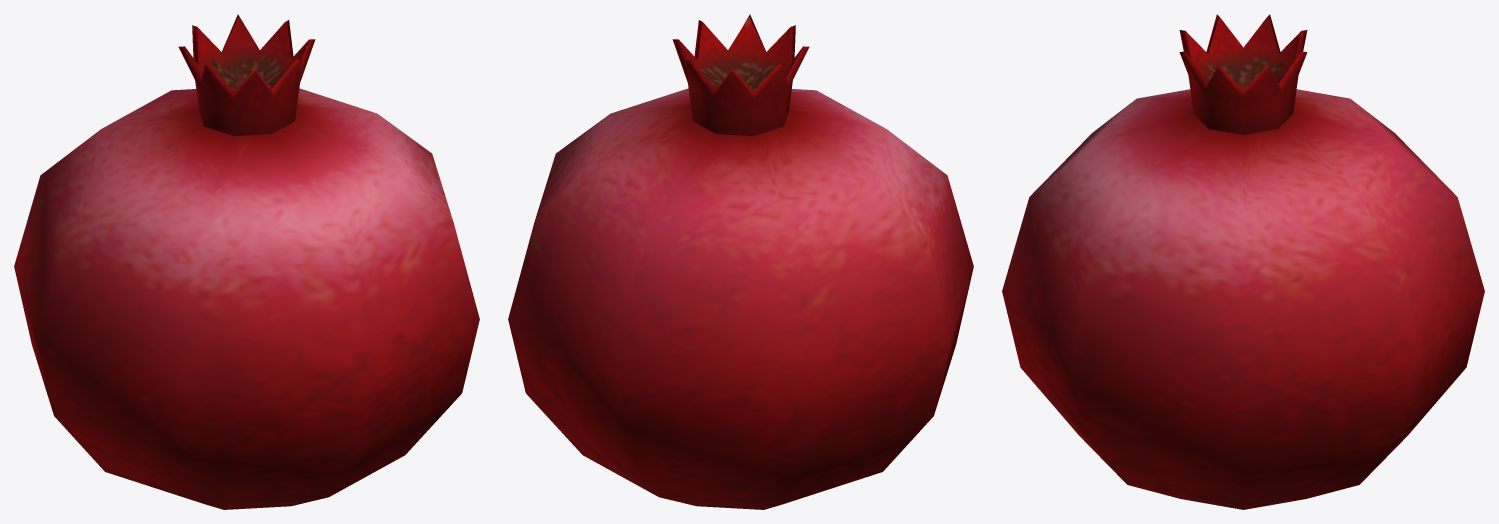
The model's file is Pomegranate.fbx.
3 views of the same model, side by side, from view 1: azimuth 30°, elevation 25°; view 2: azimuth 150°, elevation 25°; view 3: azimuth 270°, elevation 25° (orthographic).
Visible parts, largest first — view 1: Pomegranate; view 2: Pomegranate; view 3: Pomegranate.
Part boxes in pixels (x1,y1,x2,y2): Pomegranate: [14, 14, 479, 509]; Pomegranate: [508, 14, 973, 509]; Pomegranate: [1002, 14, 1484, 509].
Size of the model in its own units: 39.58 by 40.34 by 39.58.
